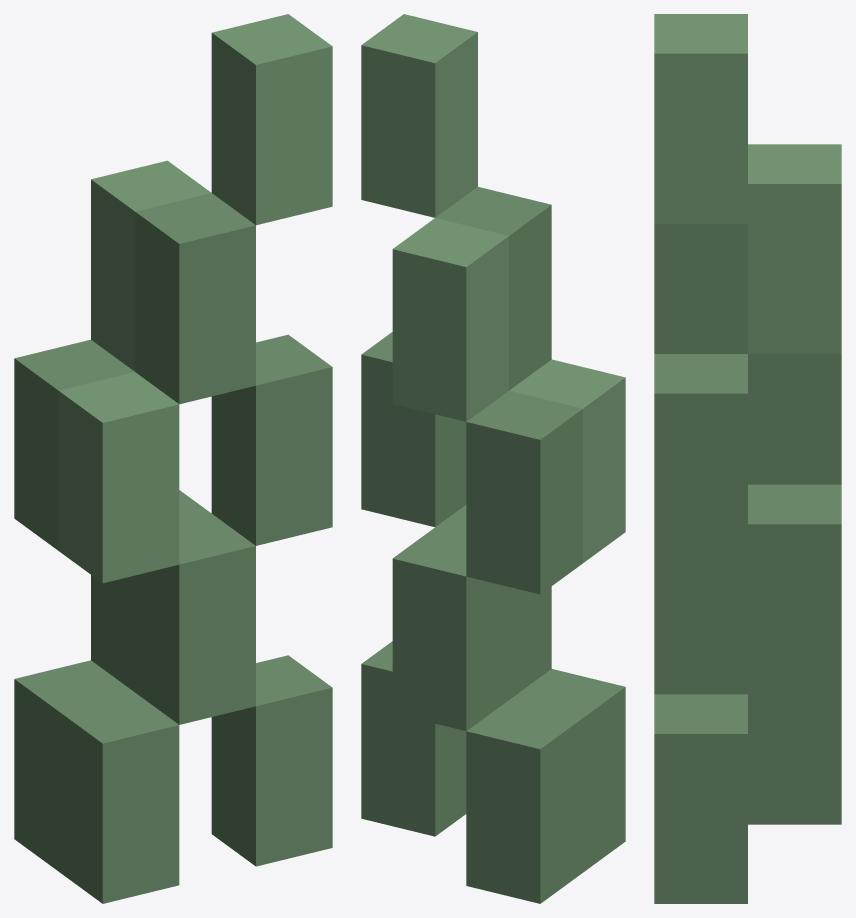
The model's file is alga_parda_01.glb.
3 views of the same model, side by side, from view 1: azimuth 30°, elevation 25°; view 2: azimuth 150°, elevation 25°; view 3: azimuth 270°, elevation 25° (orthographic). The views are drawn at different scales.
Visible parts, largest first — view 1: alga_parda_01; view 2: alga_parda_01; view 3: alga_parda_01.
Boxes of the visible parts, x1,y1,x2,y2 form: alga_parda_01: [14, 14, 332, 903]; alga_parda_01: [361, 14, 625, 903]; alga_parda_01: [654, 14, 841, 903].
Size of the model in its own units: 0.3 by 1 by 0.2.
